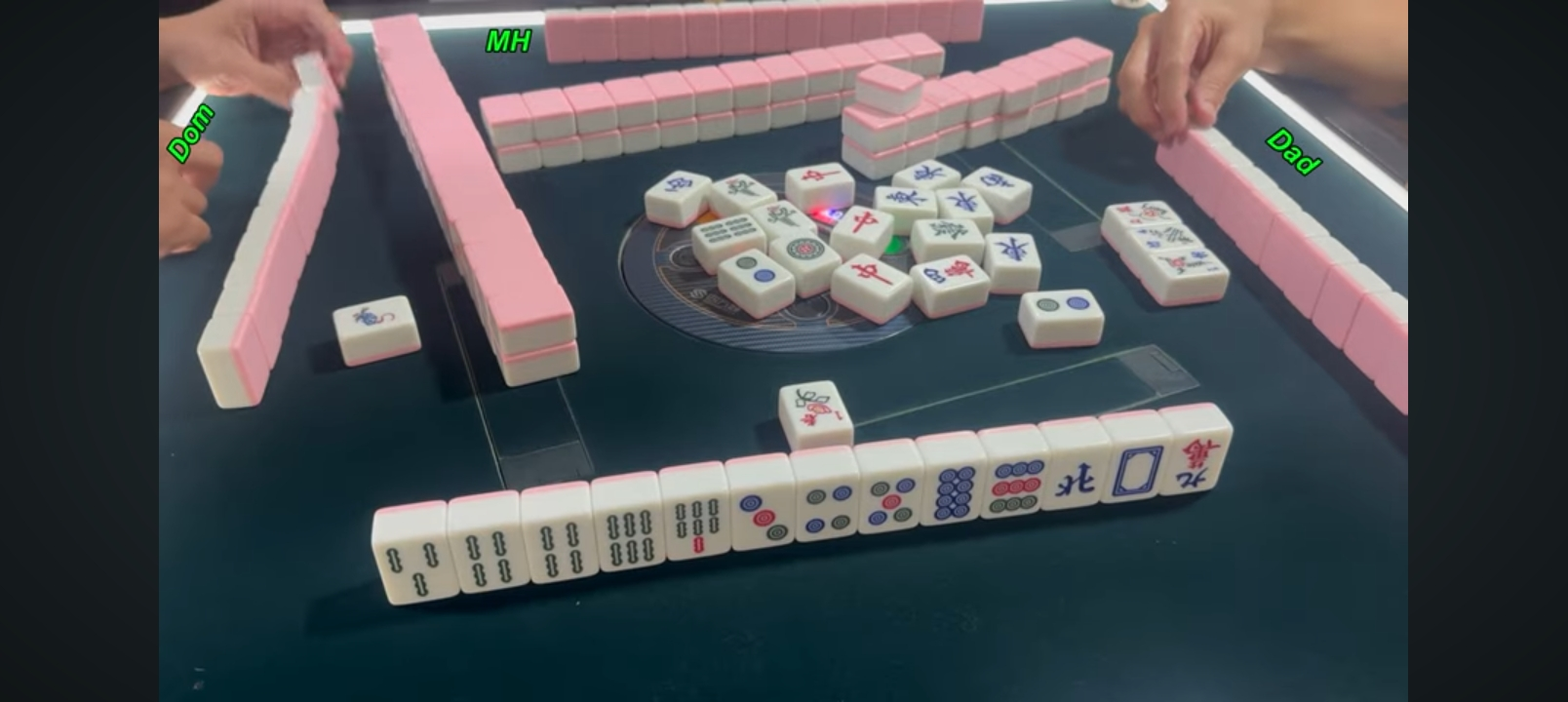TILE: (372, 537, 455, 601), (445, 528, 529, 589), (980, 454, 1052, 518), (523, 519, 593, 583), (730, 484, 796, 551), (778, 380, 856, 435), (594, 508, 662, 571), (664, 495, 729, 560), (1108, 440, 1173, 500), (797, 480, 860, 541), (1168, 434, 1231, 494), (859, 475, 925, 531), (1049, 447, 1108, 509), (926, 466, 986, 521)
